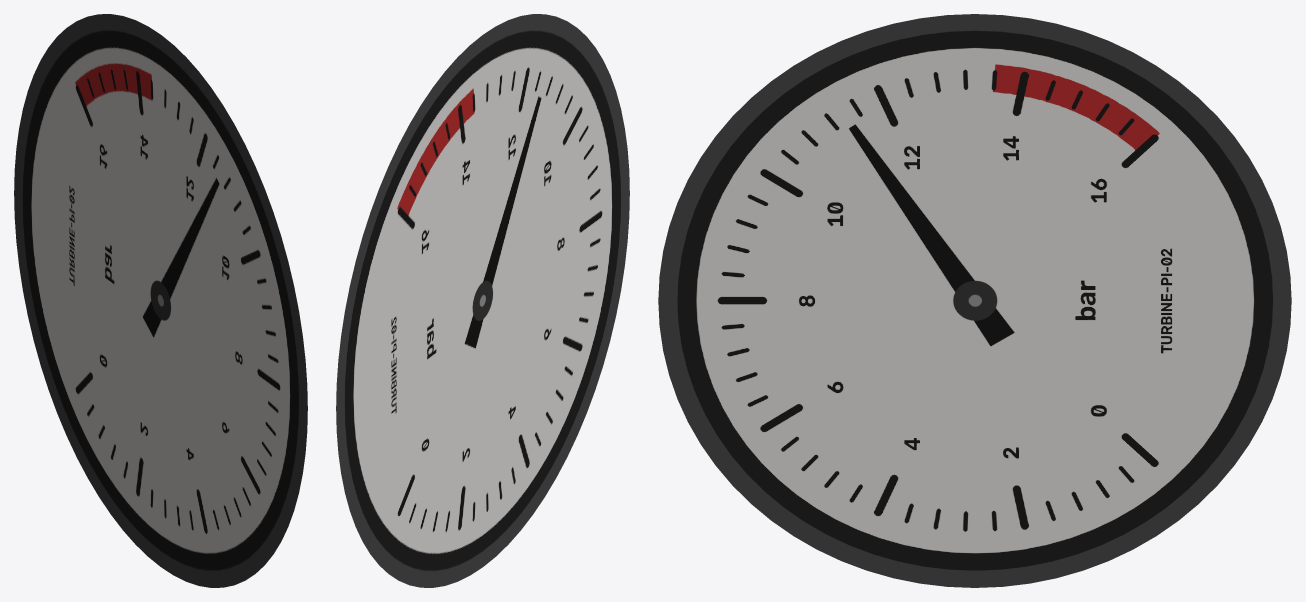
Rendered from dial.obj.
3 views of the same model, side by side, from view 1: azimuth 30°, elevation 25°; view 2: azimuth 150°, elevation 25°; view 3: azimuth 270°, elevation 25° (orthographic). The views are drawn at different scales.
Parts seen in each view (by area): view 1: gauge_g02_dial; view 2: gauge_g02_dial; view 3: gauge_g02_dial.
Boxes of the visible parts, left/top/right/bottom form: gauge_g02_dial: left=14, top=14, right=307, bottom=587; gauge_g02_dial: left=336, top=14, right=629, bottom=587; gauge_g02_dial: left=658, top=14, right=1291, bottom=587.
Bounding box in the file's own units: 0 × 0.3 × 0.3.
Materials: 1 (1 with a texture image).
